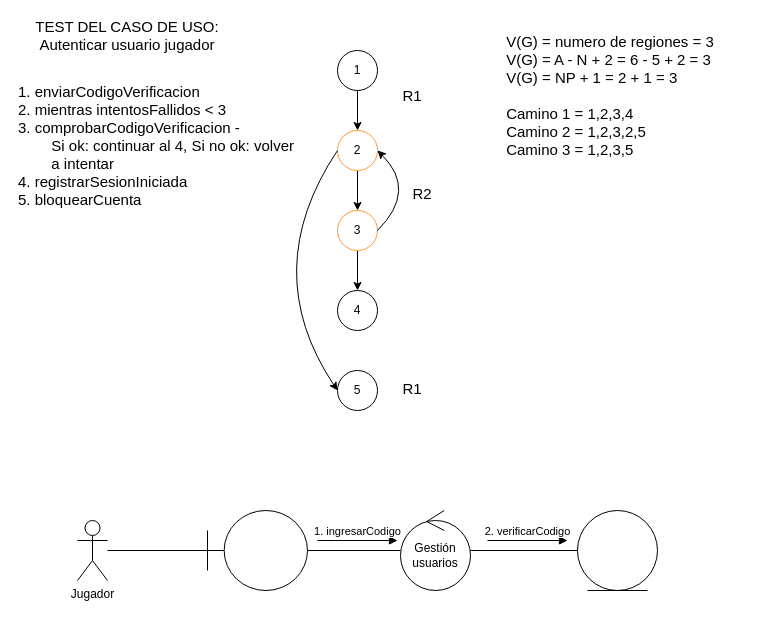
This 767x618 diagram has some shape labels left out. The centre of each missing label's shape, as x and y in pixels:
"Pantalla2FA" goes at point 257,550.
"Usuarios" goes at point 617,550.
